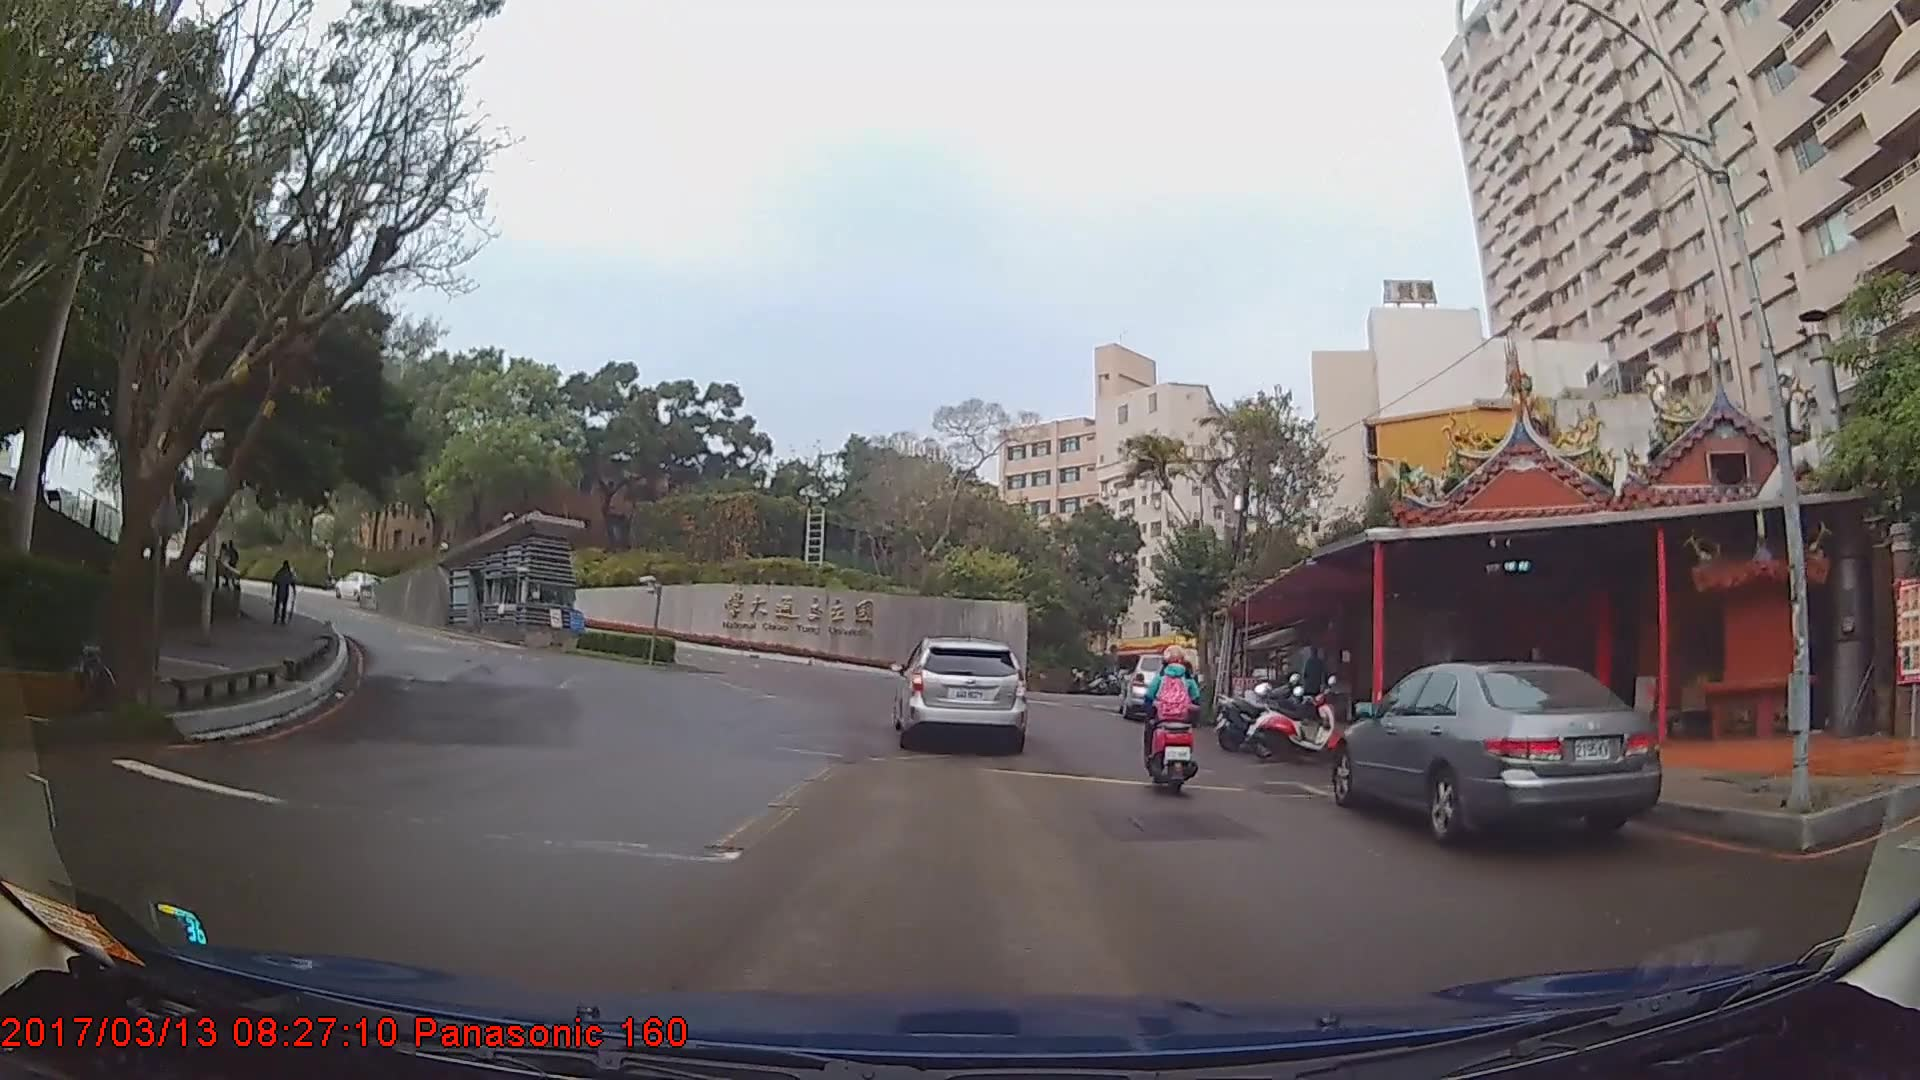pedestrian: (1302, 644, 1332, 730), (272, 562, 300, 628), (222, 540, 243, 595)
rider: (1138, 654, 1208, 811)
vehicle: (1331, 660, 1664, 846), (891, 634, 1026, 750), (1117, 650, 1198, 718), (331, 572, 380, 599)
